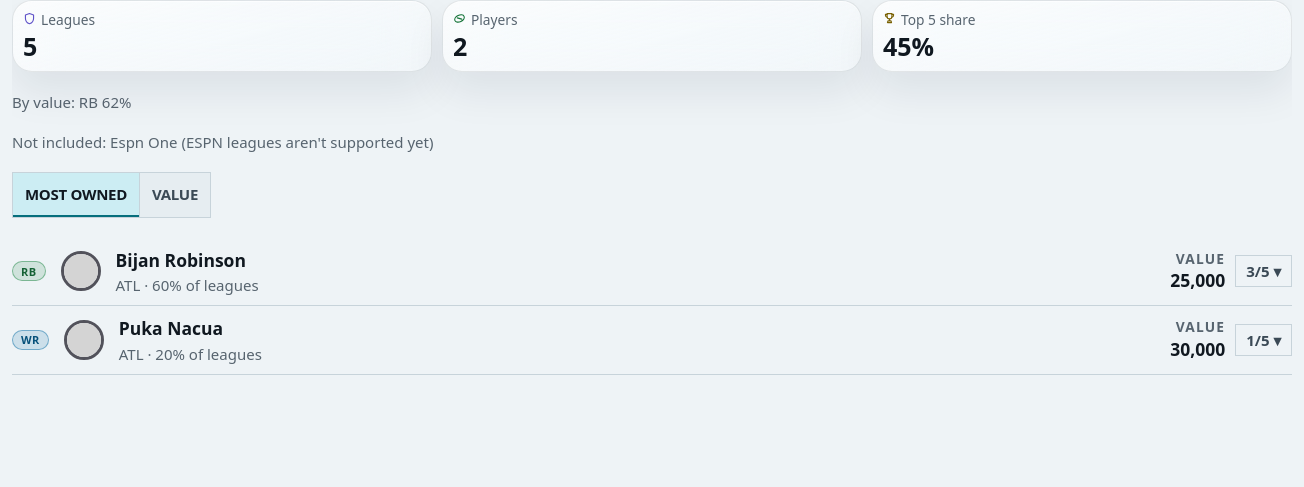
Test case: PortfolioExposureView › shows the summary, the ESPN note and league names on expand
This screenshot has width=1304, height=487.
Expected: the text "Bijan Robinson" is shown, [116,248,259,273]
Expected: the text "45%" is shown, [883,29,934,63]
Step 1. Click the button named "Bijan Robinson is in 3 of 5 leagues" → (1264, 271), box [1235,255,1292,287]
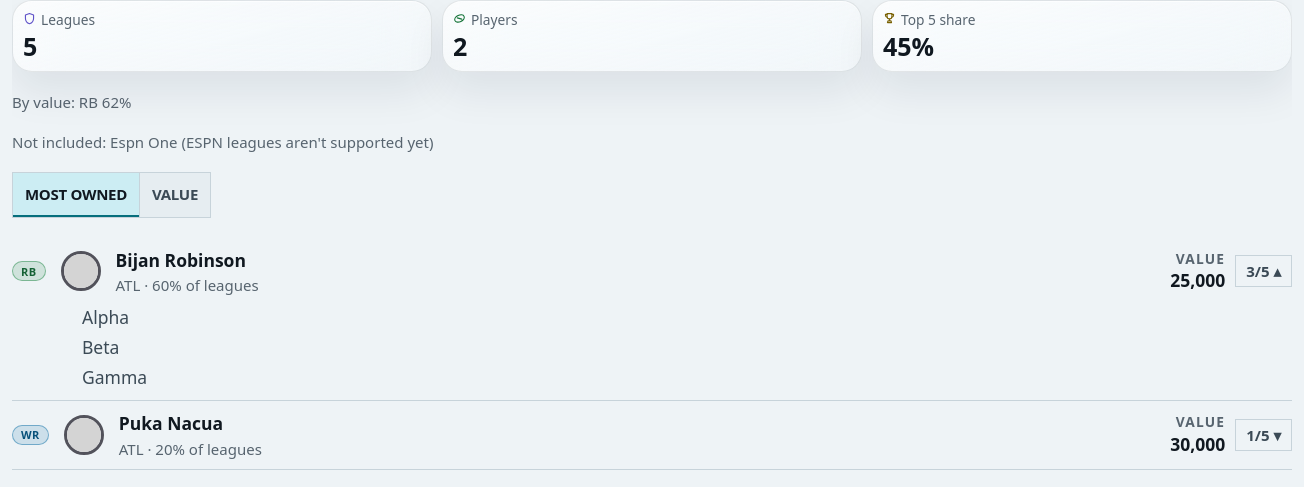
Expected: the list item "Alpha" is shown, [82,305,129,329]
